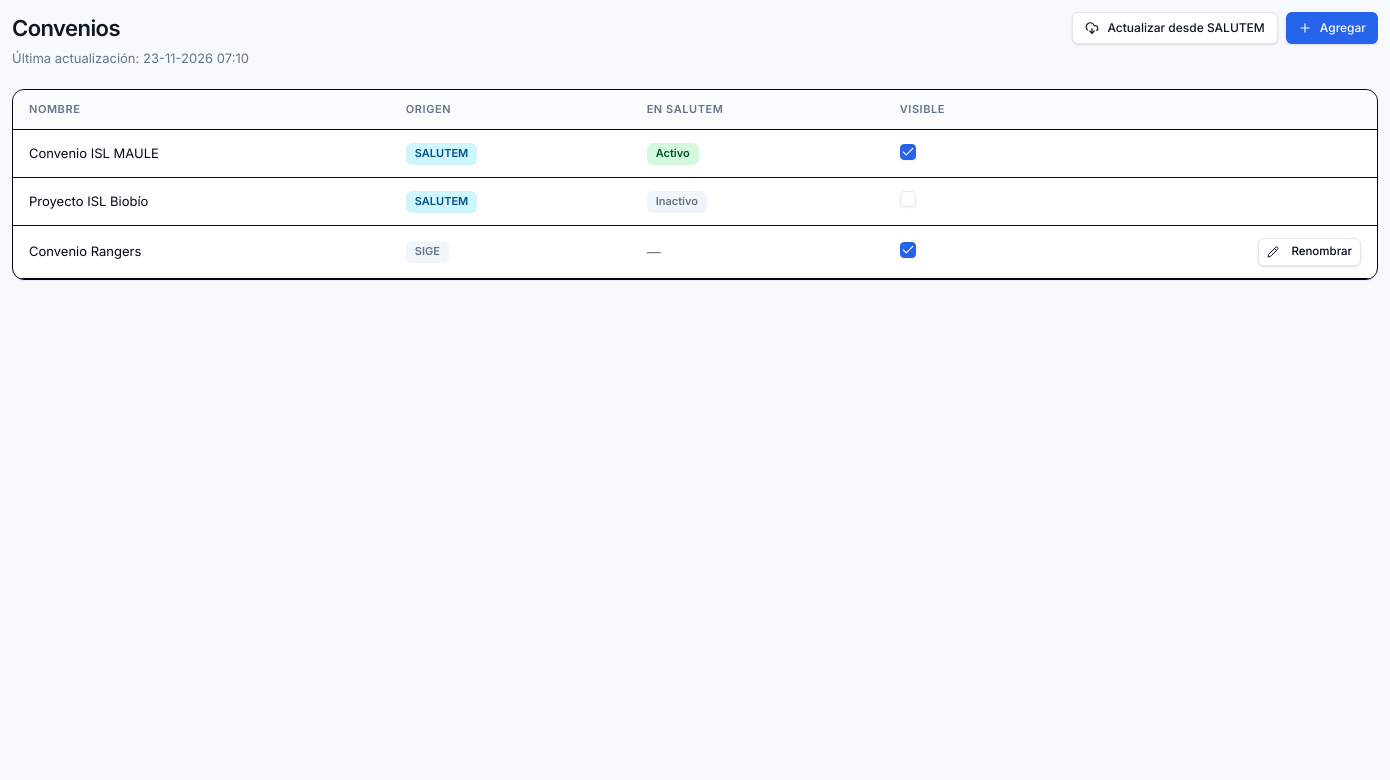
it: ConveniosPage › si la actualización trae errores, el aviso los muestra
This screenshot has width=1390, height=780.
Click the button with test id "btn-actualizar-salutem".
click(1175, 28)  # box [1072, 12, 1278, 44]
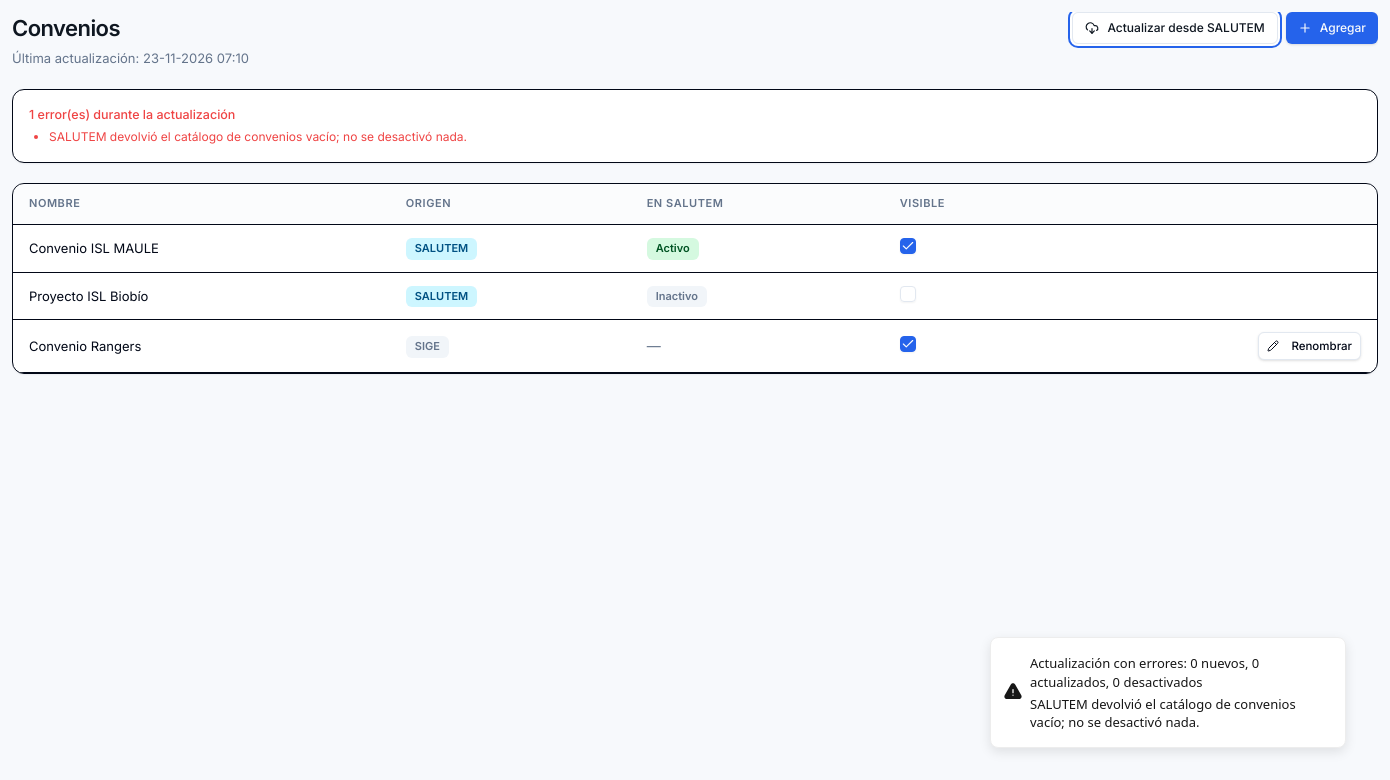
Check: the 2nd list item shows "SALUTEM devolvió el catálogo de convenios vacío", box [1030, 695, 1296, 731]
